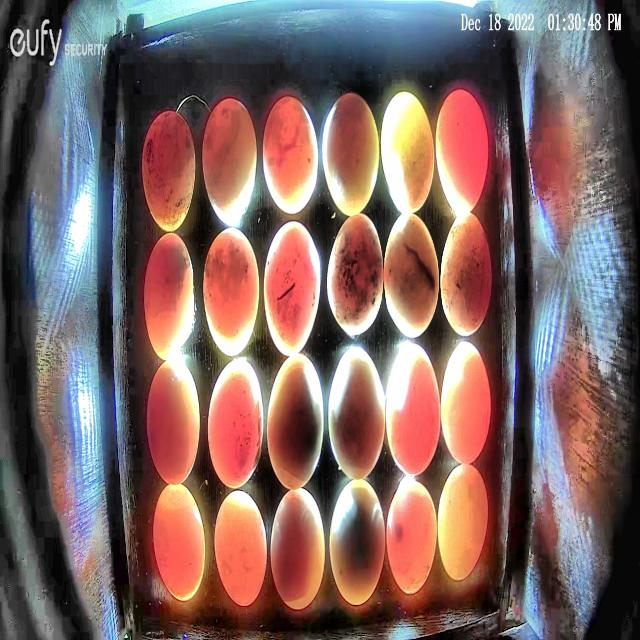DE: (267, 352, 323, 492), (328, 346, 386, 480), (264, 220, 320, 356), (202, 228, 259, 356), (386, 342, 440, 477), (208, 358, 264, 488), (201, 99, 257, 227), (327, 212, 384, 337), (330, 477, 386, 604), (140, 110, 197, 233), (147, 357, 200, 487), (323, 92, 379, 215), (384, 211, 438, 337), (270, 488, 324, 611), (262, 96, 318, 214), (381, 89, 434, 213), (435, 90, 488, 212), (144, 231, 194, 360), (441, 210, 493, 334), (153, 482, 205, 602), (441, 340, 491, 464), (214, 491, 267, 607), (386, 477, 437, 595), (438, 463, 488, 580)
